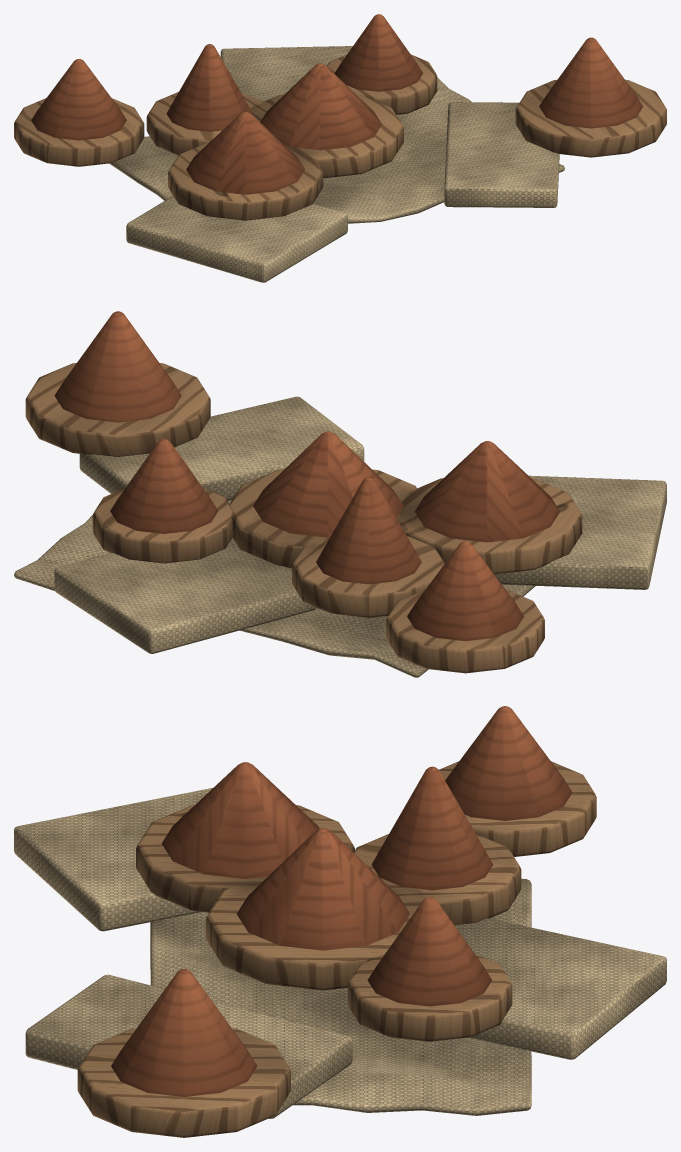
Rendered from mat_spice.glb.
3 views of the same model, one above another, from view 1: azimuth 30°, elevation 25°; view 2: azimuth 150°, elevation 25°; view 3: azimuth 270°, elevation 25° (orthographic). The views are drawn at different scales.
Parts seen in each view (by area): view 1: mat_spice; view 2: mat_spice; view 3: mat_spice.
Part boxes in pixels (bbox=[...]): mat_spice: bbox=[14, 14, 666, 282]; mat_spice: bbox=[14, 311, 666, 677]; mat_spice: bbox=[14, 706, 666, 1137].
Size of the model in its own units: 1.33 by 0.304 by 1.03.
3 materials, 3 textured.
